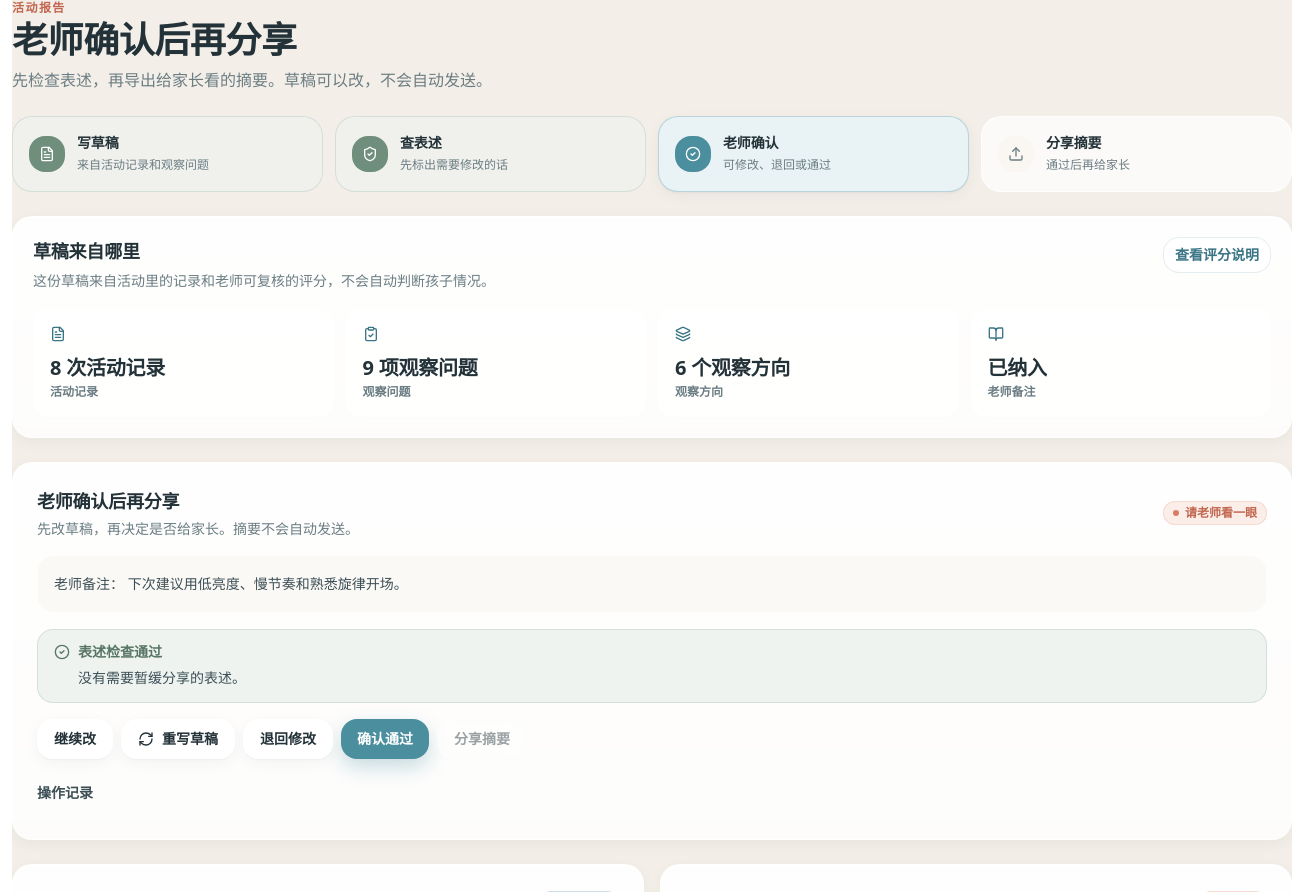
Scenario: core pages › uses the backend API client when backend mode is enabled
The width and height of the screenshot is (1292, 892).
Click the button "重写草稿" at (178, 739), box top-left (121, 719), bottom-right (235, 759)
(page scrolled)
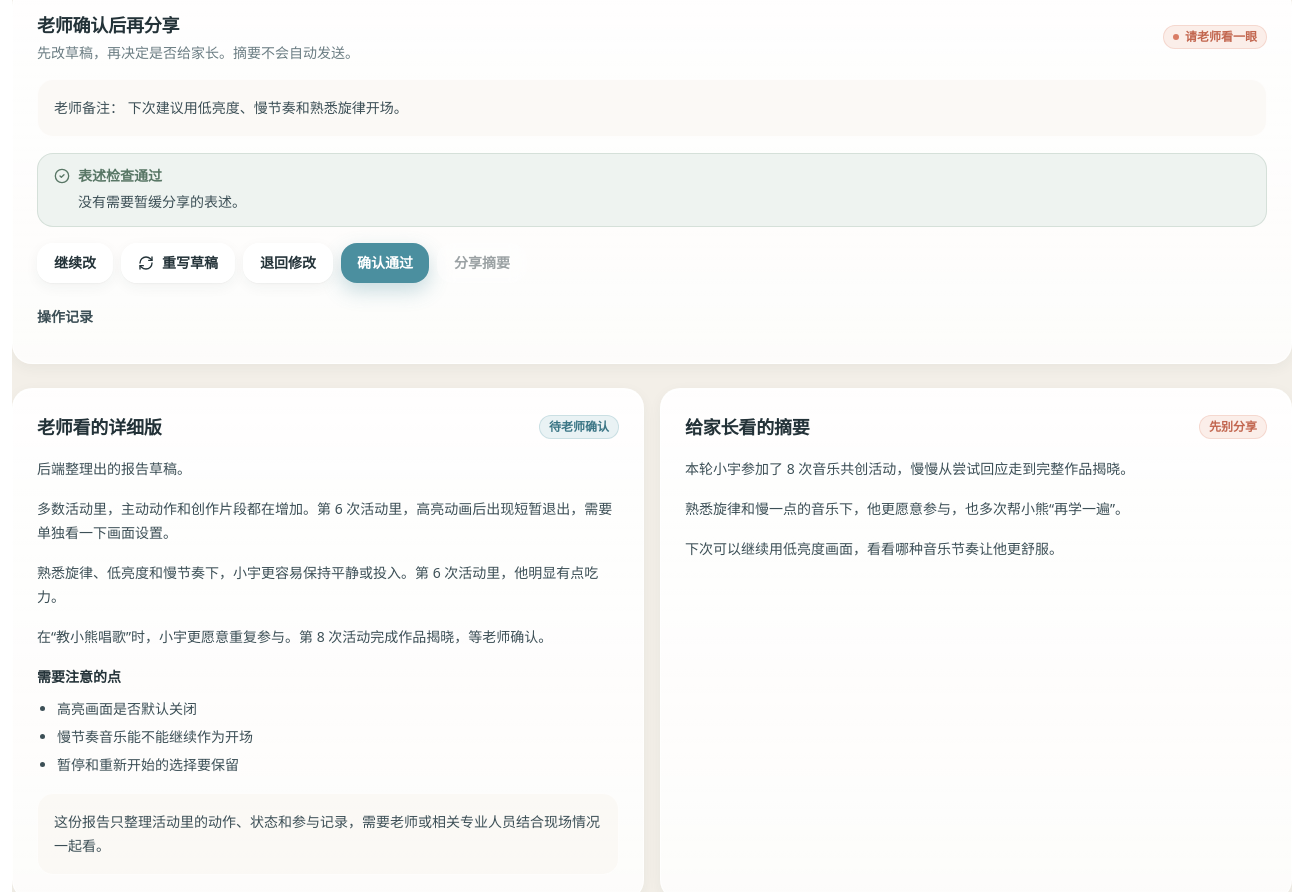
Expected: the text "后端整理出的报告草稿。" is shown, top-left (37, 459), bottom-right (191, 478)
